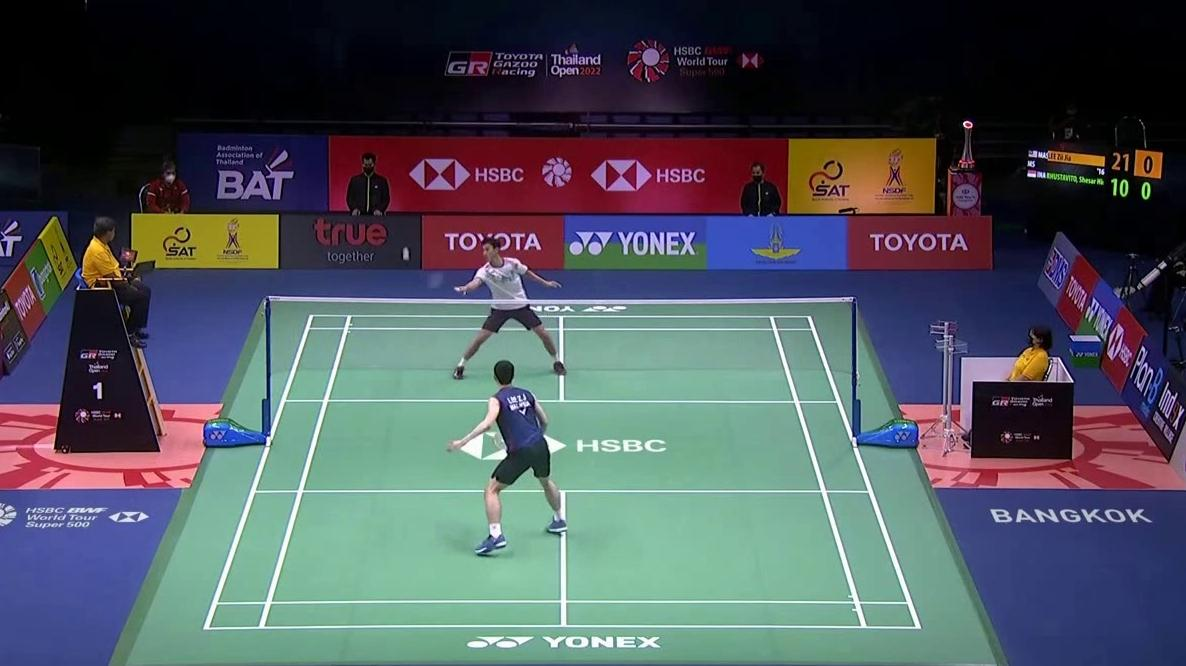racket: (425, 270, 466, 296), (493, 432, 528, 454)
shuttle: (402, 247, 410, 260)
